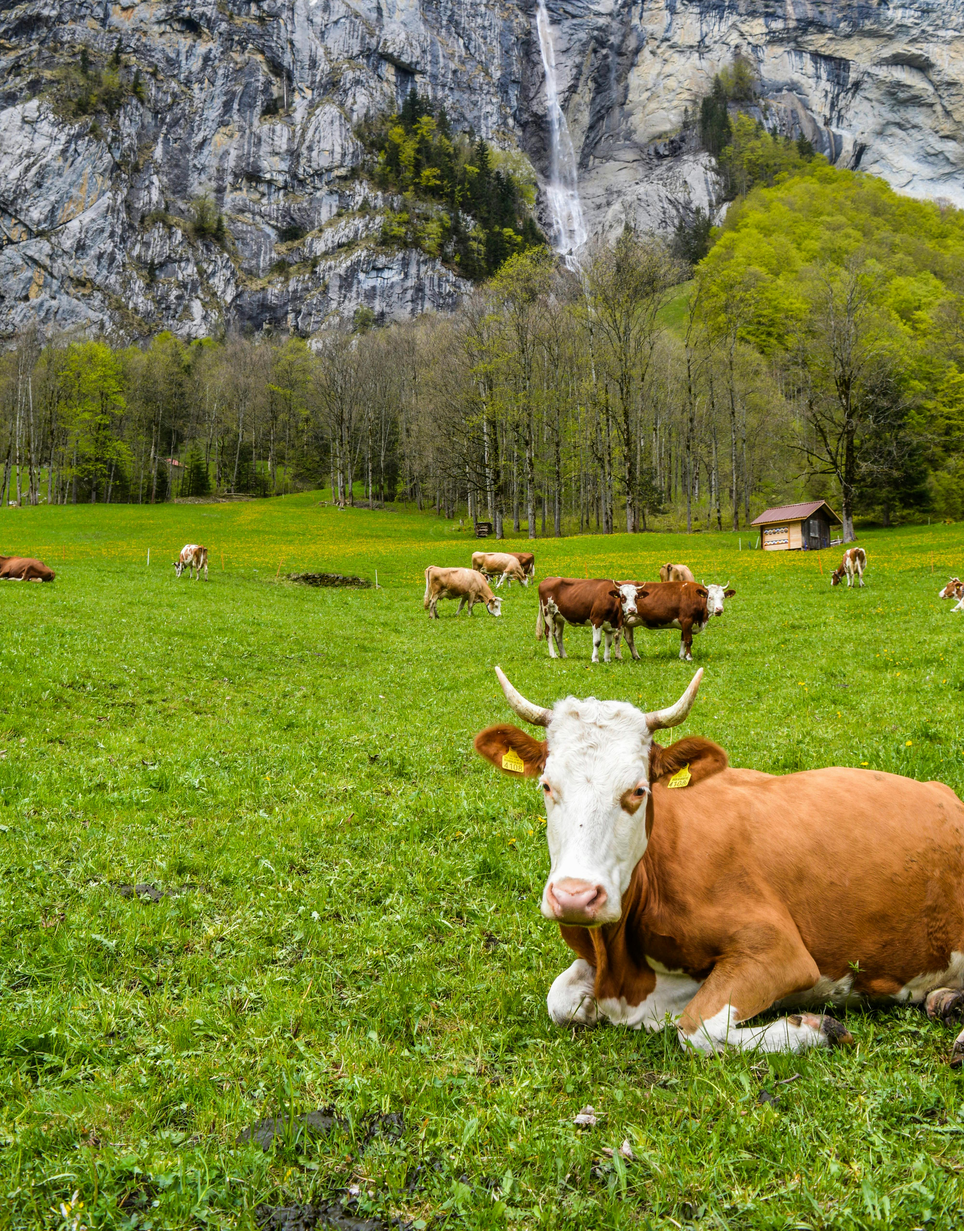bovino: (476, 662, 964, 1104), (538, 583, 646, 659), (640, 575, 737, 657), (417, 560, 507, 622)
